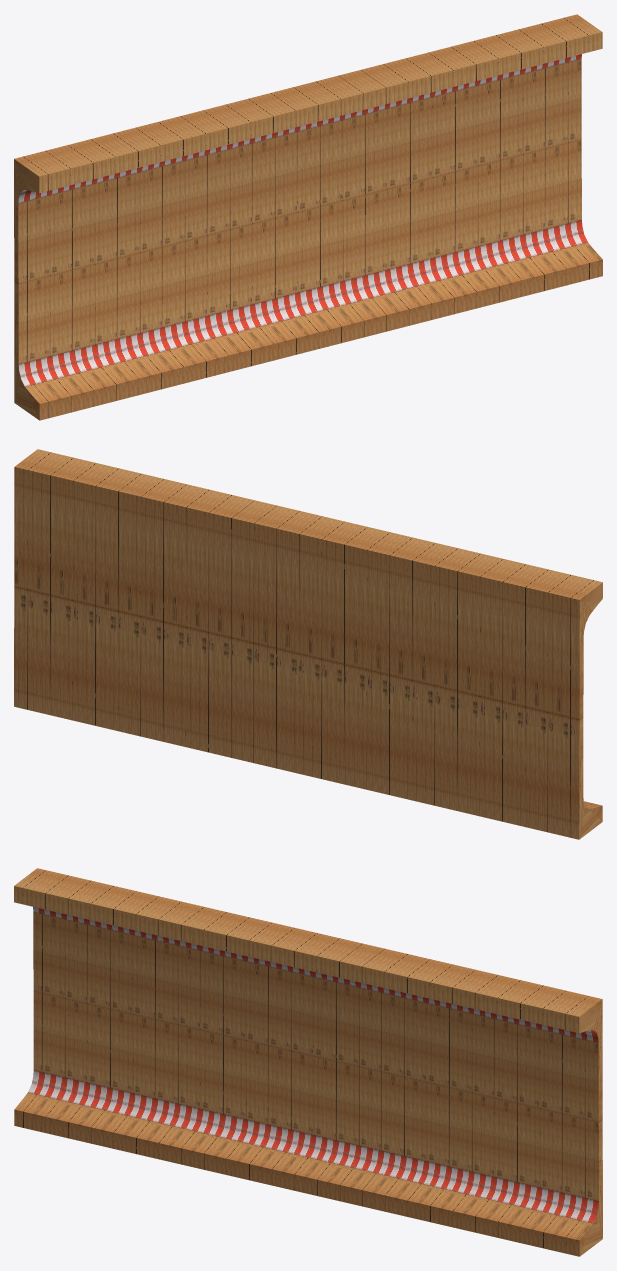
Rendered from SAMRTrack-17.fbx.
The picture shows the model from 3 angles, top to bottom: view 1: azimuth 30°, elevation 25°; view 2: azimuth 150°, elevation 25°; view 3: azimuth 330°, elevation 25°; orthographic projection.
Visible parts, largest first — view 1: SAMRTrack-17; view 2: SAMRTrack-17; view 3: SAMRTrack-17.
Part boxes in pixels (bbox=[...]): SAMRTrack-17: bbox=[14, 14, 602, 420]; SAMRTrack-17: bbox=[14, 449, 602, 839]; SAMRTrack-17: bbox=[14, 868, 602, 1256].
Size of the model in its own units: 70.52 by 28.98 by 6.57.
Materials: 2 (2 with a texture image).
